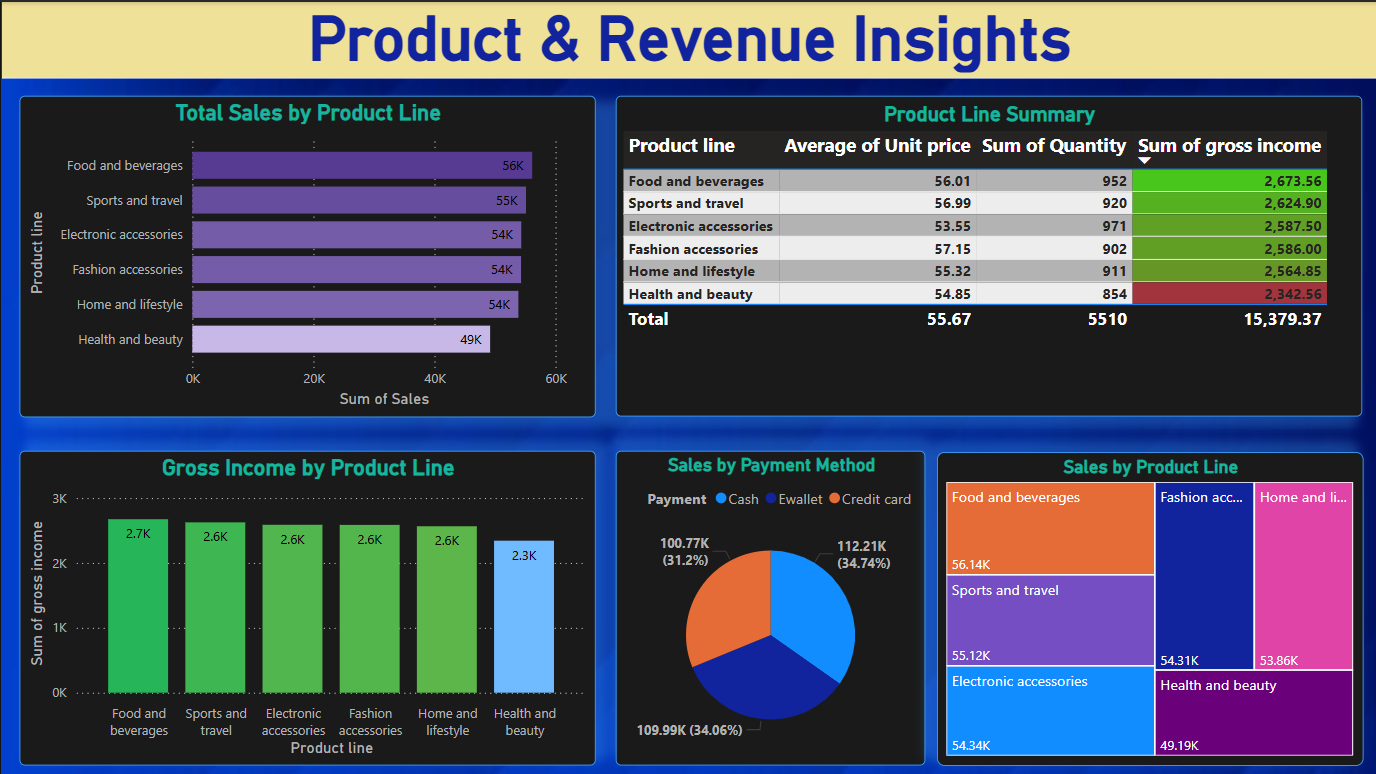

Layout of this report page (visuals, bound fields, positions):
{"tool":"powerbi","page":{"name":"Product & Revenue Insights","canvas":[1280,720],"ordinal":1},"visuals":[{"type":"textbox","title":"Product & Revenue Insights","box":[0,0,1280,71.2],"z":0},{"type":"clusteredBarChart","title":"Total Sales by Product Line","fields":{"Y":["Sum(SuperMarket Sales Data Cleaned.Sales)"],"Category":["SuperMarket Sales Data Cleaned.Product line"]},"box":[16.3,87.2,536,298.8],"z":1000},{"type":"clusteredColumnChart","title":"Gross Income by Product Line","fields":{"Category":["SuperMarket Sales Data Cleaned.Product line"],"Y":["Sum(SuperMarket Sales Data Cleaned.gross income)"]},"box":[16.3,417.4,536,293],"z":2000},{"type":"pieChart","title":"Sales by Payment Method","fields":{"Category":["SuperMarket Sales Data Cleaned.Payment"],"Y":["Sum(SuperMarket Sales Data Cleaned.Sales)"]},"box":[570.9,417.4,288.4,293],"z":3000},{"type":"treemap","title":"Sales by Product Line","fields":{"Values":["Sum(SuperMarket Sales Data Cleaned.Sales)"],"Details":["SuperMarket Sales Data Cleaned.Product line"]},"box":[869.8,418.6,396.5,291.9],"z":4000},{"type":"tableEx","title":"Product Line Summary","fields":{"Values":["SuperMarket Sales Data Cleaned.Product line","Avg(SuperMarket Sales Data Cleaned.Unit price)","Sum(SuperMarket Sales Data Cleaned.Quantity)","Sum(SuperMarket Sales Data Cleaned.gross income)"]},"box":[571.4,87.1,694.3,298.6],"z":5000}]}

Visuals, with their boxes in screenshot pixels (x1, y1, x2, y2), scaled from the page's 1280x720 canvas onto the 1376x774 screenshot:
"Product & Revenue Insights" textbox: box=[0, 0, 1375, 77]
"Total Sales by Product Line" clusteredBarChart: box=[18, 94, 594, 415]
"Gross Income by Product Line" clusteredColumnChart: box=[18, 449, 594, 764]
"Sales by Payment Method" pieChart: box=[614, 449, 924, 764]
"Sales by Product Line" treemap: box=[935, 450, 1361, 764]
"Product Line Summary" tableEx: box=[614, 94, 1361, 415]
